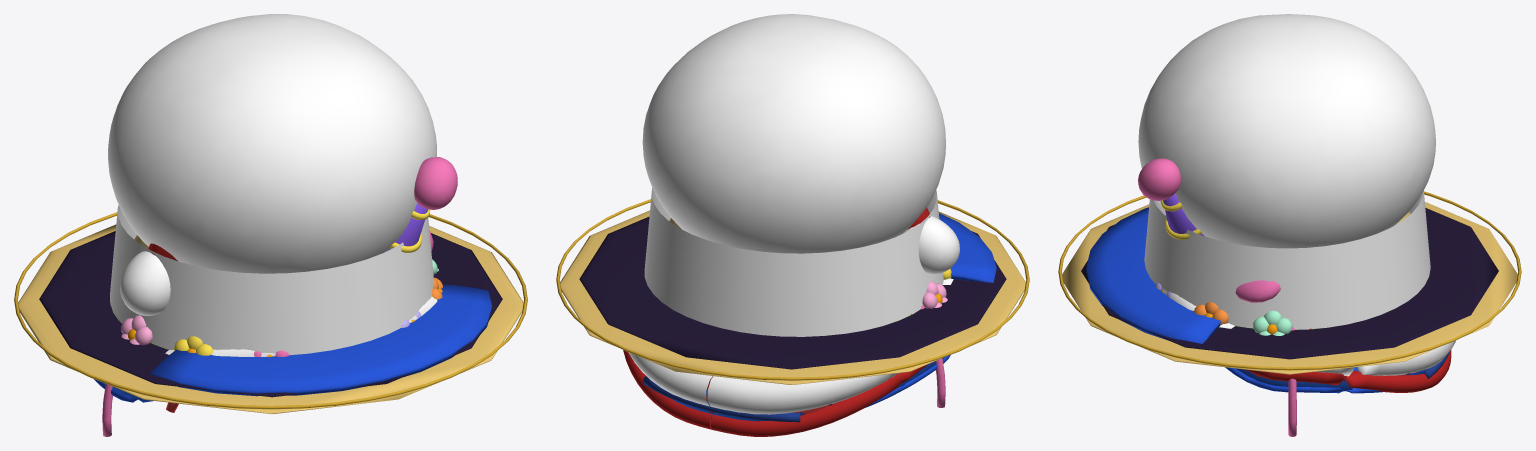
The model's file is props-h.glb.
The picture shows the model from 3 angles, left to right: view 1: azimuth 30°, elevation 25°; view 2: azimuth 150°, elevation 25°; view 3: azimuth 270°, elevation 25°; orthographic projection. The views are drawn at different scales.
Visible parts, largest first — view 1: h-chef, h-straw, h-cap, h-witch, h-santa, h-party, h-flowers; view 2: h-chef, h-witch, h-straw, h-santa, h-beanie, h-cap, h-flowers; view 3: h-chef, h-witch, h-straw, h-cap, h-beanie, h-party, h-santa, h-flowers, h-bow, h-bunny.
Boxes of the visible parts, x1=… form: h-chef: x1=108, y1=14, x2=436, y2=354; h-straw: x1=14, y1=212, x2=527, y2=413; h-cap: x1=94, y1=284, x2=491, y2=402; h-witch: x1=39, y1=231, x2=502, y2=397; h-santa: x1=120, y1=243, x2=437, y2=356; h-party: x1=387, y1=157, x2=457, y2=252; h-flowers: x1=112, y1=259, x2=442, y2=356; h-chef: x1=642, y1=14, x2=945, y2=336; h-witch: x1=579, y1=216, x2=1006, y2=369; h-straw: x1=556, y1=199, x2=1029, y2=384; h-santa: x1=628, y1=207, x2=959, y2=414; h-beanie: x1=623, y1=314, x2=928, y2=436; h-cap: x1=643, y1=213, x2=996, y2=422; h-flowers: x1=895, y1=269, x2=951, y2=321; h-chef: x1=1138, y1=14, x2=1435, y2=329; h-witch: x1=1081, y1=208, x2=1498, y2=359; h-straw: x1=1058, y1=191, x2=1521, y2=374; h-cap: x1=1086, y1=207, x2=1449, y2=393; h-beanie: x1=1245, y1=328, x2=1451, y2=392; h-party: x1=1138, y1=158, x2=1204, y2=239; h-santa: x1=1161, y1=288, x2=1455, y2=376; h-flowers: x1=1155, y1=282, x2=1329, y2=335; h-bow: x1=1235, y1=280, x2=1280, y2=302; h-bunny: x1=1288, y1=327, x2=1296, y2=436.
Size of the model in its own units: 0.665 by 0.5251 by 0.665.
